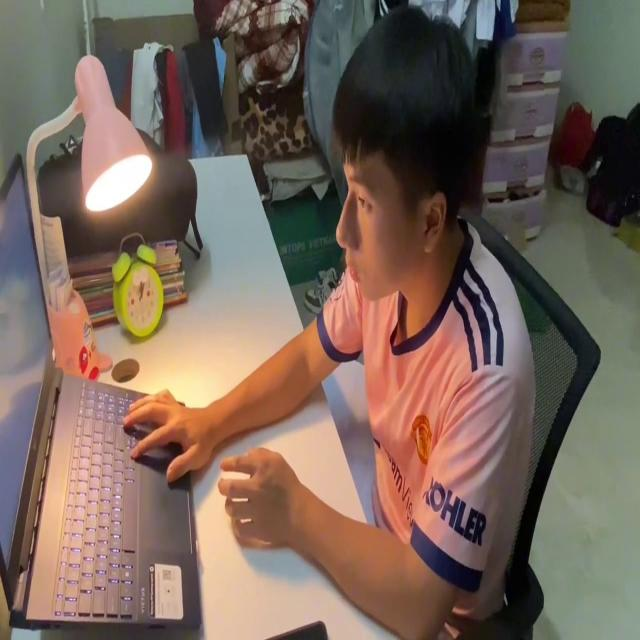book: (322, 350, 378, 525)
laptop: (1, 146, 204, 640)
phone: (264, 610, 327, 640)
student: (121, 0, 537, 640)
